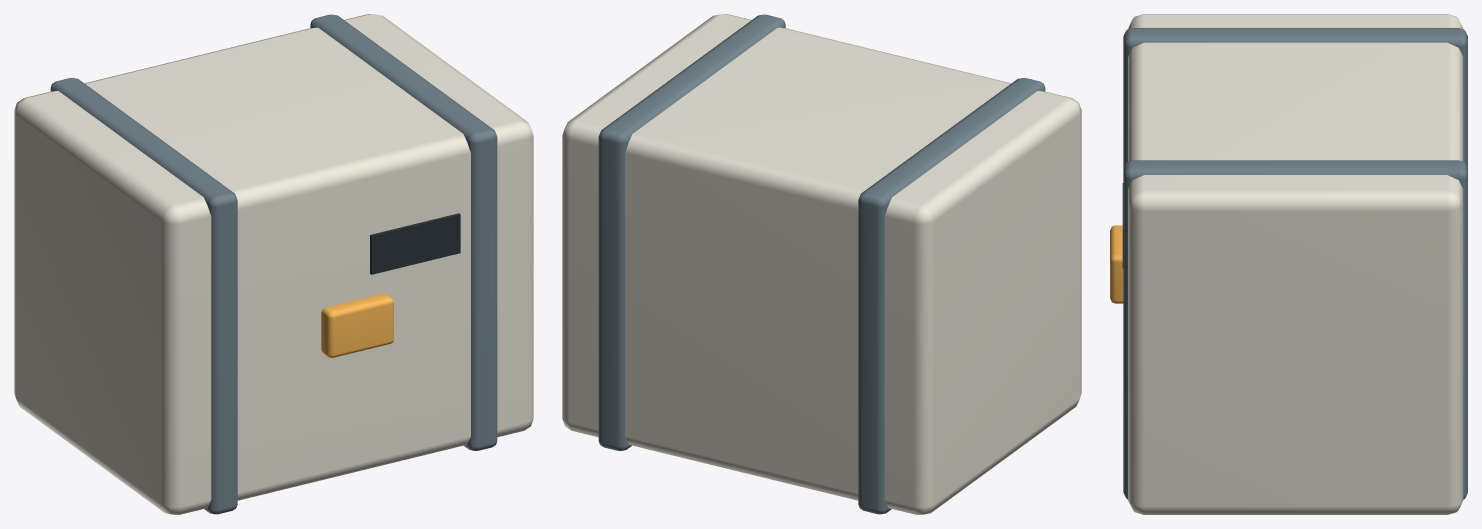
Rendered from SM_FE_CrateSmall.fbx.
The picture shows the model from 3 angles, left to right: view 1: azimuth 30°, elevation 25°; view 2: azimuth 150°, elevation 25°; view 3: azimuth 270°, elevation 25°; orthographic projection. The views are drawn at different scales.
Visible parts, largest first — view 1: SM_FE_CrateSmall; view 2: SM_FE_CrateSmall; view 3: SM_FE_CrateSmall.
Part boxes in pixels (x1,y1,x2,y2): SM_FE_CrateSmall: (14, 14, 533, 514); SM_FE_CrateSmall: (562, 14, 1081, 514); SM_FE_CrateSmall: (1110, 14, 1467, 514).
Size of the model in its own units: 70 by 56 by 57.4.
